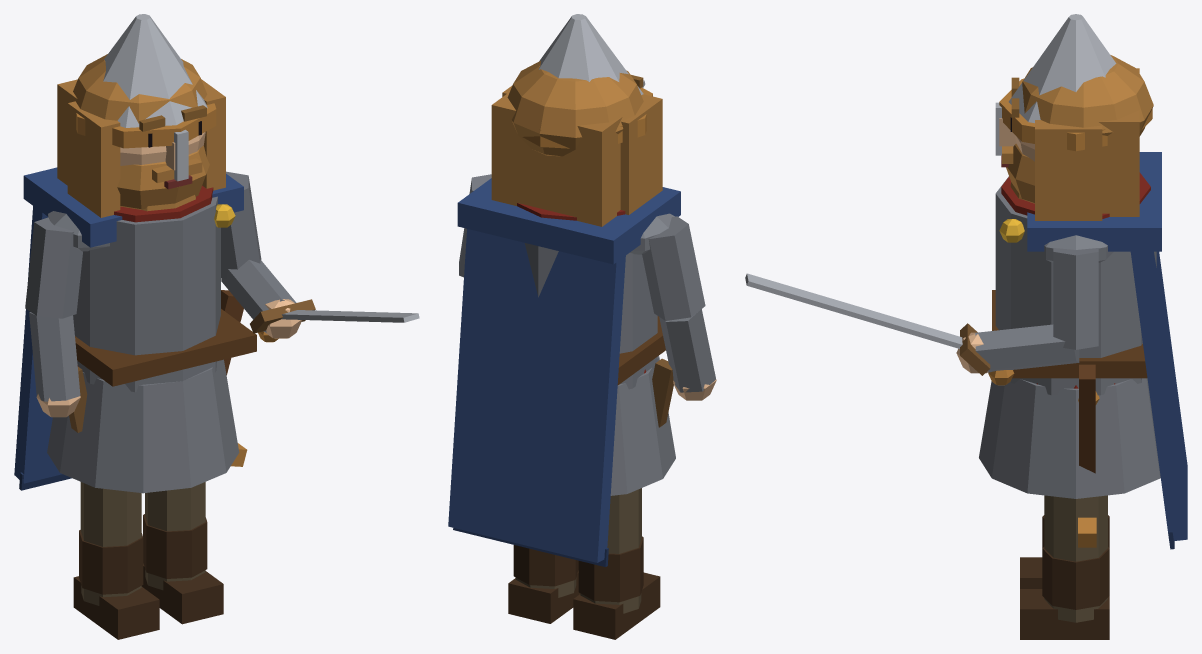
File: odoaker.glb
3 renders of one model, left to right at view 1: azimuth 30°, elevation 25°; view 2: azimuth 150°, elevation 25°; view 3: azimuth 270°, elevation 25°, orthographic.
Visible parts, largest first — view 1: cialo, glowa, noga_l, reka_l, noga_p, reka_p, peleryna; view 2: peleryna, glowa, cialo, reka_l, noga_l, noga_p, reka_p; view 3: cialo, glowa, reka_p, noga_p, peleryna, noga_l.
Boxes of the visible parts, <box> form: cialo: <box>23,167,256,493</box>; glowa: <box>57,14,225,217</box>; noga_l: <box>73,482,159,639</box>; reka_l: <box>25,217,82,417</box>; noga_p: <box>141,482,223,624</box>; reka_p: <box>221,171,419,342</box>; peleryna: <box>14,206,71,490</box>; peleryna: <box>448,229,625,566</box>; glowa: <box>491,14,662,226</box>; cialo: <box>457,178,680,495</box>; reka_l: <box>642,216,716,400</box>; noga_l: <box>573,488,660,639</box>; noga_p: <box>508,545,580,623</box>; reka_p: <box>459,80,645,277</box>; cialo: <box>979,152,1161,547</box>; glowa: <box>995,14,1153,220</box>; reka_p: <box>745,248,1098,385</box>; noga_p: <box>1020,495,1109,639</box>; peleryna: <box>1130,251,1187,549</box>; noga_l: <box>1020,515,1109,588</box>.
Bounding box in the file's own units: 0.7352 × 1.76 × 1.18.
